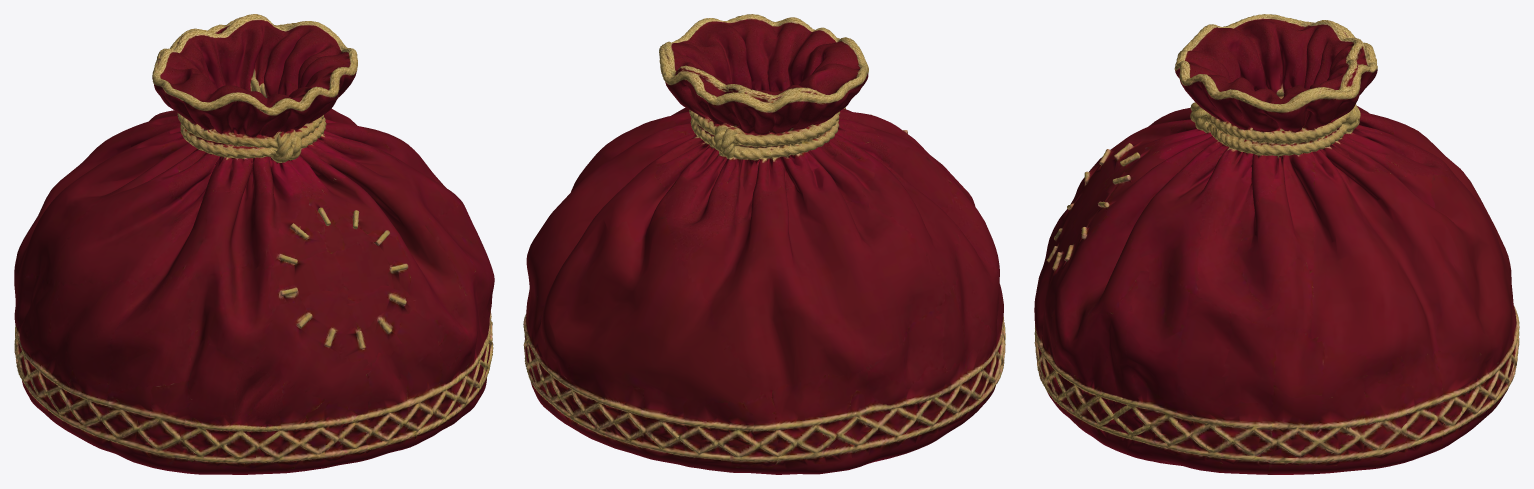
Rendered from bag3d-d90cf0f4.glb.
The picture shows the model from 3 angles, left to right: view 1: azimuth 30°, elevation 25°; view 2: azimuth 150°, elevation 25°; view 3: azimuth 270°, elevation 25°; orthographic projection.
Bounding box in the file's own units: 1.9 × 1.47 × 1.9.
1 material, 1 textured.
